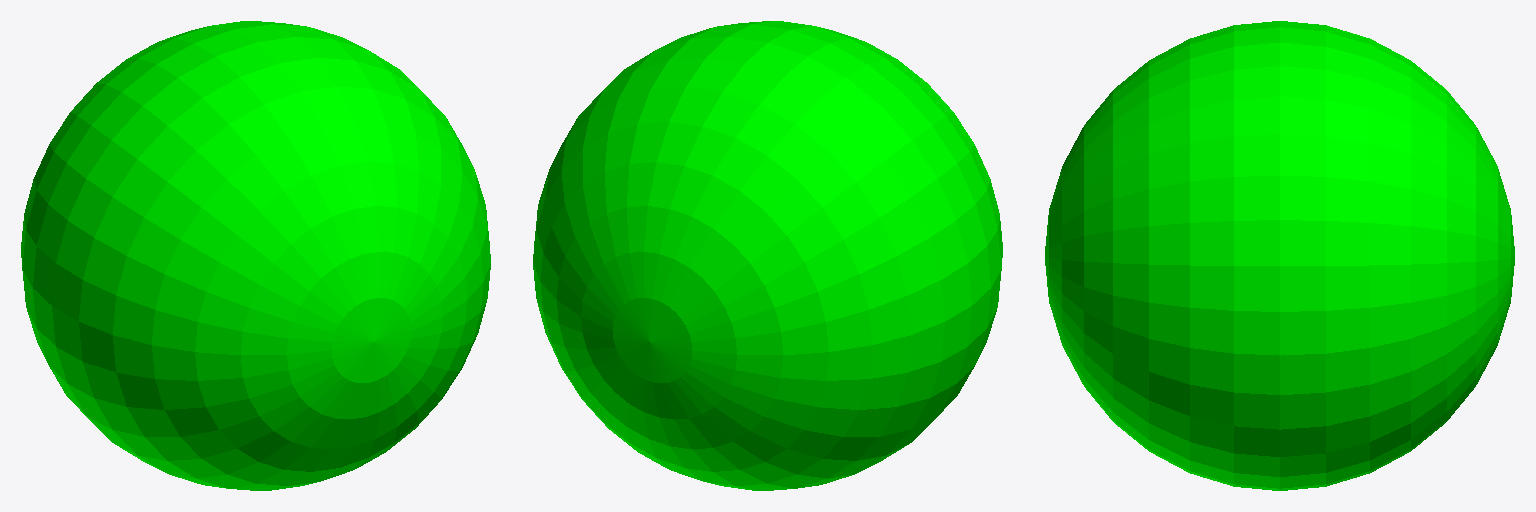
The robot description file, URDF, robot "R5_DOF_Robot_Assembly":
<?xml version="1.0" encoding="utf-8"?>
<robot name="R5_DOF_Robot_Assembly">

  <!-- ===== world alignment helper ===== -->
  <link name="world"/>
  
 

  <!-- ===================== Base_Link ===================== -->
  <link name="Base_Link">
    <inertial>
      <origin xyz="0 0 0" rpy="0 0 0"/>
      <mass value="0.8"/>
      <inertia ixx="0.002" ixy="0" ixz="0" iyy="0.002" iyz="0" izz="0.002"/>
    </inertial>

    <visual>
      <origin xyz="0 0 0" rpy="0 0 0"/>
      <geometry>
        <mesh filename="package://robotics/meshes/Base_Link.STL"/>
      </geometry>
      <material name="red">
        <color rgba="1 0 0 1"/>
      </material>
    </visual>

    <collision>
      <origin xyz="0 0 -0.030" rpy="0 0 0"/>
      <geometry>
        <cylinder radius="0.060" length="0.020"/>
      </geometry>
    </collision>
  </link>

   <joint name="Base_Link_to_world" type="fixed">
    <parent link="world"/>
    <child link="Base_Link"/>
    <origin xyz="0 0 0.050" rpy="0 0 0"/>
  </joint>
  <!-- ===================== Rotating_Waste ===================== -->
  <link name="Rotating_Waste">
    <inertial>
      <origin xyz="0 0 0" rpy="0 0 0"/>
      <mass value="0.7"/>
      <inertia ixx="0.0015" ixy="0" ixz="0" iyy="0.0015" iyz="0" izz="0.0015"/>
    </inertial>

    <visual>
      <origin xyz="0 0 0" rpy="0 0 0"/>
      <geometry>
        <mesh filename="package://robotics/meshes/Rotating_Waste.STL"/>
      </geometry>
      <material name="gray">
        <color rgba="0.75294 0.75294 0.75294 1"/>
      </material>
    </visual>

    <collision>
      <origin xyz="0 0 0" rpy="0 0 0"/>
      <geometry>
        <cylinder radius="0.055" length="0.010"/>
      </geometry>
    </collision>
  </link>

  <joint name="Joint_1" type="revolute">
    <origin xyz="0 0 0" rpy="0 0 0"/>
    <parent link="Base_Link"/>
    <child link="Rotating_Waste"/>
    <axis xyz="0 0 1"/>
    <limit lower="-3.14159" upper="3.14159" effort="200" velocity="2.0"/>
    <dynamics damping="3.0" friction="0.2"/>
  </joint>

  <!-- ===================== Arm_1 ===================== -->
  <link name="Arm_1">
    <inertial>
      <origin xyz="0 0 0" rpy="0 0 0"/>
      <mass value="0.6"/>
      <inertia ixx="0.0012" ixy="0" ixz="0" iyy="0.0004" iyz="0" izz="0.0012"/>
    </inertial>

    <visual>
      <origin xyz="0 0 0" rpy="0 0 0"/>
      <geometry>
        <mesh filename="package://robotics/meshes/Arm_1.STL"/>
      </geometry>
      <material name="white">
        <color rgba="1 1 1 1"/>
      </material>
    </visual>

    <collision>
      <origin xyz="0 0 0.06" rpy="0 0 0"/>
      <geometry>
        <cylinder radius="0.020" length="0.12"/>
      </geometry>
    </collision>
  </link>

  <joint name="Joint_2" type="revolute">
    <origin xyz="-2.7567E-05 0.0061999 0.04975" rpy="1.5708 0 0"/>
    <parent link="Rotating_Waste"/>
    <child link="Arm_1"/>
    <axis xyz="0 0 1"/>
    <limit lower="-3.14159" upper="3.14159" effort="200" velocity="2.0"/>
    <dynamics damping="3.0" friction="0.2"/>
  </joint>

  <!-- ===================== Arm_2 ===================== -->
  <link name="Arm_2">
    <inertial>
      <origin xyz="0 0 0" rpy="0 0 0"/>
      <mass value="0.5"/>
      <inertia ixx="0.0009" ixy="0" ixz="0" iyy="0.0003" iyz="0" izz="0.0009"/>
    </inertial>

    <visual>
      <origin xyz="0 0 0" rpy="0 0 0"/>
      <geometry>
        <mesh filename="package://robotics/meshes/Arm_2.STL"/>
      </geometry>z
      <material name="gray">
        <color rgba="0.75294 0.75294 0.75294 1"/>
      </material>
    </visual>

    <collision>
      <origin xyz="0 0 0.06" rpy="0 0 0"/>
      <geometry>
        <cylinder radius="0.018" length="0.12"/>
      </geometry>
    </collision>
  </link>

  <joint name="Joint_3" type="revolute">
    <origin xyz="0 0.140 0.000" rpy="0 0 1.5708"/>
    <parent link="Arm_1"/>
    <child link="Arm_2"/>
    <axis xyz="0 0 -1"/>
    <limit lower="-3.14159" upper="3.14159" effort="200" velocity="2.0"/>
    <dynamics damping="3.0" friction="0.2"/>
  </joint>

  <!-- ===================== Arm_3 ===================== -->
  <link name="Arm_3">
    <inertial>
      <origin xyz="0 0 0" rpy="0 0 0"/>
      <mass value="0.4"/>
      <inertia ixx="0.0006" ixy="0" ixz="0" iyy="0.0002" iyz="0" izz="0.0006"/>
    </inertial>

    <visual>
      <origin xyz="0 0 0" rpy="0 0 0"/>
      <geometry>
        <mesh filename="package://robotics/meshes/Arm_3.STL"/>
      </geometry>
      <material name="gray">
        <color rgba="0.75294 0.75294 0.75294 1"/>
      </material>
    </visual>

    <collision>
      <origin xyz="0 0 0" rpy="0 0 0"/>
      <geometry>
        <cylinder radius="0.015" length="0.140"/>
      </geometry>
    </collision>
  </link>

  <joint name="Joint_4" type="revolute">
    <origin xyz="0 0 0" rpy="-1.5708 0 -1.5708"/>
    <parent link="Arm_2"/>
    <child link="Arm_3"/>
    <axis xyz="0 0 -1"/>
    <limit lower="-3.14159" upper="3.14159" effort="200" velocity="2.0"/>
    <dynamics damping="3.0" friction="0.2"/>
  </joint>

  <!-- ===================== Gripper ===================== -->
  <link name="Gripper">
    <inertial>
      <origin xyz="0 0 0" rpy="0 0 0"/>
      <mass value="0.3"/>
      <inertia ixx="0.0003" ixy="0" ixz="0" iyy="0.0001" iyz="0" izz="0.0003"/>
    </inertial>

    <visual>
      <origin xyz="0 0 0" rpy="0 0 0"/>
      <geometry>
        <mesh filename="package://robotics/meshes/Gripper.STL"/>
      </geometry>
      <material name="red">
        <color rgba="0 0 0 0"/>
      </material>
    </visual>

    <collision>
      <origin xyz="0 0 0" rpy="0 0 0"/>
      <geometry>
        <box size="0.030 0.080 0.030"/>
      </geometry>
    </collision>
  </link>

  <joint name="Joint_5" type="revolute">
    <origin xyz="-0.001651 -0.0054574 0.13289" rpy="1.5708 0 0"/>
    <parent link="Arm_3"/>
    <child link="Gripper"/>
    <axis xyz="0 0 1"/>
    <limit lower="-3.14159" upper="3.14159" effort="200" velocity="2.0"/>
    <dynamics damping="3.0" friction="0.2"/>
  </joint>

  <!-- ===================== End Effector Frame ===================== -->
  <link name="EE_frame">
    <inertial>
      <origin xyz="0 0 0" rpy="0 0 0"/>
      <mass value="0.001"/>
      <inertia ixx="1e-6" ixy="0" ixz="0" iyy="1e-6" iyz="0" izz="1e-6"/>
    </inertial>

    <visual>
      <origin xyz="0 0 0" rpy="0 0 0"/>
      <geometry>
        <sphere radius="0.005"/>
      </geometry>
      <material name="green">
        <color rgba="0 1 0 1"/>
      </material>
    </visual>

    <collision>
      <origin xyz="0 0 0" rpy="0 0 0"/>
      <geometry>
        <sphere radius="0.001"/>
      </geometry>
    </collision>
  </link>

  <joint name="EE_frame_lock" type="fixed">
    <parent link="Gripper"/>
    <child link="EE_frame"/>
    <origin xyz="0.007 0.1 0.013" rpy="0 0 0"/>
  </joint>

  <!-- ===================== ROS2 Control ===================== -->
  <ros2_control name="R5DOFController" type="system">
    <hardware>
      <plugin>gz_ros2_control/GazeboSimSystem</plugin>
    </hardware>
    <joint name="Joint_1">
      <command_interface name="position"/>
      <state_interface name="position"/>
      <state_interface name="velocity"/>
      <state_interface name="effort"/>
    </joint>
    <joint name="Joint_2">
      <command_interface name="position"/>
      <state_interface name="position"/>
      <state_interface name="velocity"/>
      <state_interface name="effort"/>
    </joint>
    <joint name="Joint_3">
      <command_interface name="position"/>
      <state_interface name="position"/>
      <state_interface name="velocity"/>
      <state_interface name="effort"/>
    </joint>
    <joint name="Joint_4">
      <command_interface name="position"/>
      <state_interface name="position"/>
      <state_interface name="velocity"/>
      <state_interface name="effort"/>
    </joint>
    <joint name="Joint_5">
      <command_interface name="position"/>
      <state_interface name="position"/>
      <state_interface name="velocity"/>
      <state_interface name="effort"/>
    </joint>
  </ros2_control>

  <gazebo>
    <plugin filename="gz_ros2_control-system" name="gz_ros2_control::GazeboSimROS2ControlPlugin">
    <parameters>[local-path]/robotics/install/robotics/share/robotics/config/controllers.yaml</parameters>
    </plugin>
  </gazebo>

</robot>

--- Render facts (derived) ---
Views: 3 orthographic renders of the robot side by side, from view 1: azimuth 30°, elevation 25°; view 2: azimuth 150°, elevation 25°; view 3: azimuth 270°, elevation 25°.
Robot: R5_DOF_Robot_Assembly — 8 links, 7 joints (5 revolute, 2 fixed); root link world; default pose: every joint at zero.
Links seen in each view (by area): view 1: EE_frame; view 2: EE_frame; view 3: EE_frame.
Link boxes in pixels (x1=…): EE_frame: x1=21, y1=21, x2=490, y2=490; EE_frame: x1=533, y1=21, x2=1002, y2=490; EE_frame: x1=1045, y1=21, x2=1514, y2=490.
Size in the robot's own frame: 0.01 by 0.01 by 0.01 metres.
Meshes: 6 distinct files referenced, 0 mesh visuals loaded (none loaded); not drawn: 6 (reference not matched to a file when rendering).